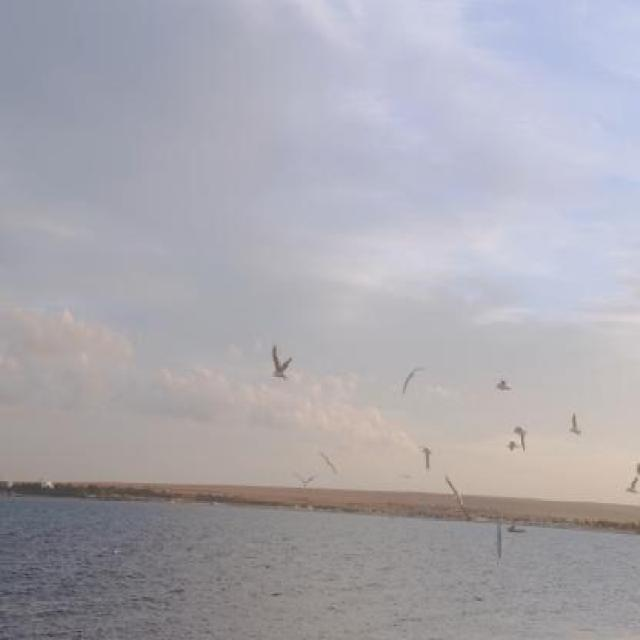bird: (438, 468, 472, 532), (266, 341, 296, 390), (397, 360, 423, 405), (316, 444, 342, 478), (414, 440, 435, 478), (290, 468, 319, 495), (565, 409, 584, 445), (513, 415, 530, 453), (503, 431, 519, 458), (495, 373, 510, 396)
